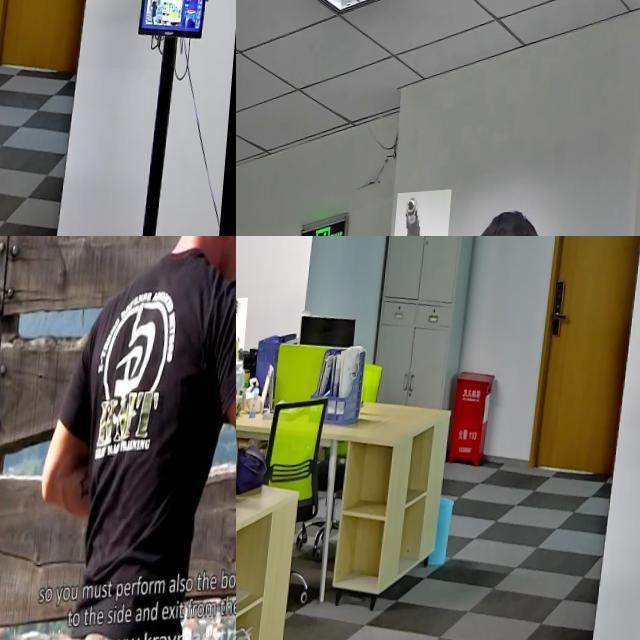gun-knife-thesis - v11 Yolov5 augmented: (0, 25, 33, 171), (393, 194, 457, 236), (236, 299, 268, 378)
